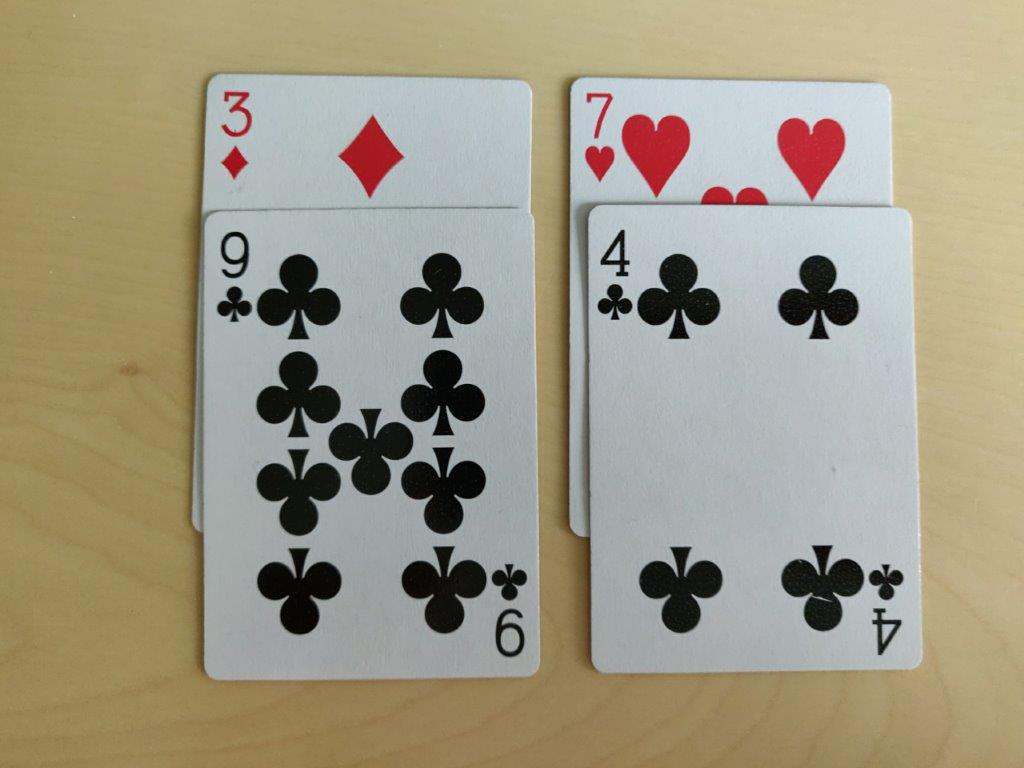3D: (213, 87, 258, 184)
4C: (592, 220, 635, 331)
7H: (575, 85, 622, 186)
9C: (212, 220, 255, 332)
